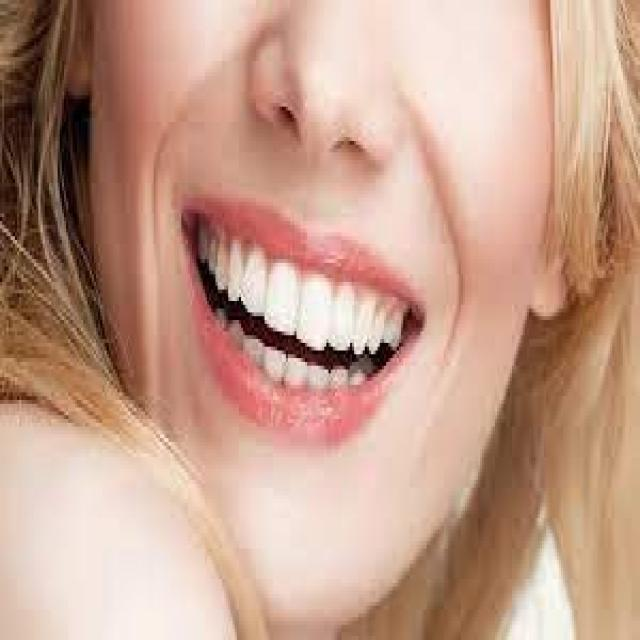tooth: (301, 274, 326, 347), (267, 259, 292, 328), (331, 282, 352, 350), (244, 244, 262, 312), (226, 240, 241, 305), (356, 282, 369, 354), (284, 358, 307, 385), (216, 228, 226, 290), (388, 293, 399, 343), (196, 217, 209, 259), (207, 221, 218, 270), (264, 347, 284, 373), (373, 289, 382, 343), (330, 362, 346, 388), (228, 320, 243, 343), (213, 297, 224, 328), (312, 362, 326, 385), (246, 339, 260, 362), (350, 366, 369, 381)
